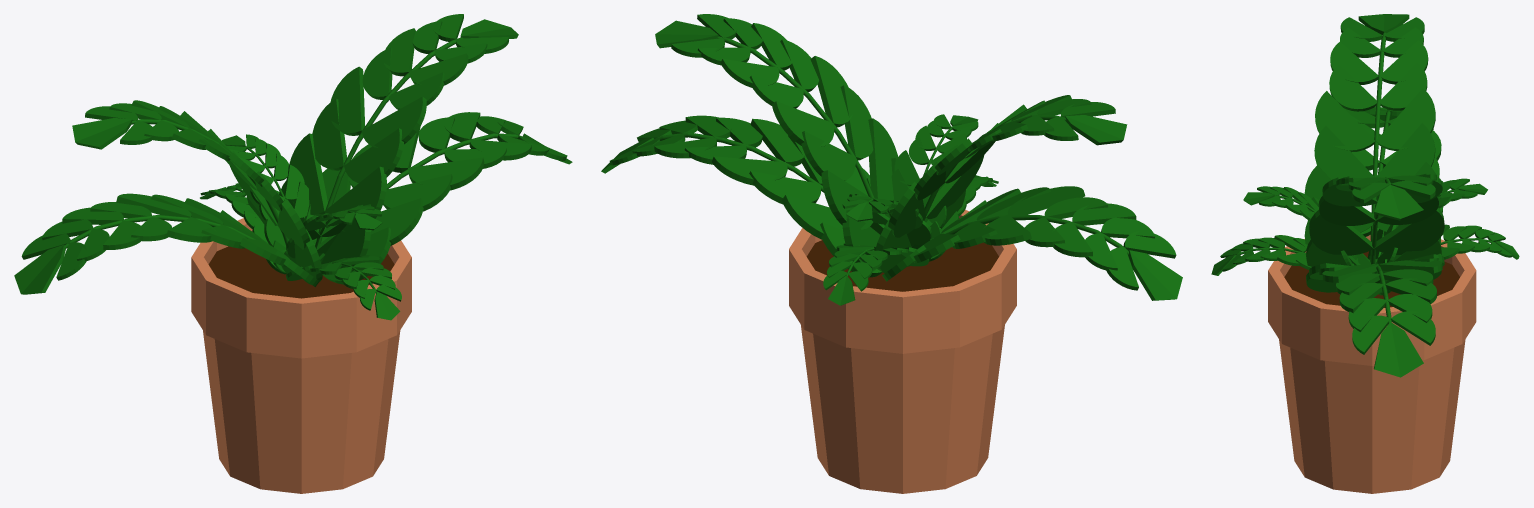
File: potteplante (3).fbx
The picture shows the model from 3 angles, left to right: view 1: azimuth 30°, elevation 25°; view 2: azimuth 150°, elevation 25°; view 3: azimuth 270°, elevation 25°; orthographic projection. The views are drawn at different scales.
Parts seen in each view (by area): view 1: Cylinder, Cylinder.004, Cylinder.006, Cylinder.005, Cylinder.003, Cylinder.002, Cylinder.008, Cylinder.001, Cylinder.007; view 2: Cylinder, Cylinder.004, Cylinder.006, Cylinder.005, Cylinder.003, Cylinder.001, Cylinder.007, Cylinder.002, Cylinder.008; view 3: Cylinder, Cylinder.003, Cylinder.004, Cylinder.005, Cylinder.008, Cylinder.007, Cylinder.006, Cylinder.001, Cylinder.002.
Part boxes in pixels (x1,y1,x2,y2): Cylinder: (191,218,411,493); Cylinder.004: (279,14,518,271); Cylinder.006: (14,193,319,294); Cylinder.005: (322,112,572,284); Cylinder.003: (72,100,322,284); Cylinder.002: (221,134,327,272); Cylinder.008: (286,255,401,320); Cylinder.001: (281,204,382,273); Cylinder.007: (200,183,286,274); Cylinder: (789,209,1016,493); Cylinder.004: (655,14,910,271); Cylinder.006: (882,186,1182,300); Cylinder.005: (601,115,882,277); Cylinder.003: (875,95,1127,273); Cylinder.001: (884,114,978,239); Cylinder.007: (823,243,929,305); Cylinder.002: (842,194,931,259); Cylinder.008: (920,175,998,261); Cylinder: (1268,235,1476,493); Cylinder.003: (1304,14,1440,264); Cylinder.004: (1306,173,1444,266); Cylinder.005: (1306,254,1444,377); Cylinder.008: (1211,235,1311,275); Cylinder.007: (1376,224,1519,295); Cylinder.006: (1344,107,1443,260); Cylinder.001: (1243,186,1358,265); Cylinder.002: (1367,178,1487,283).
Bounding box in the file's own units: 465 × 305 × 240.
